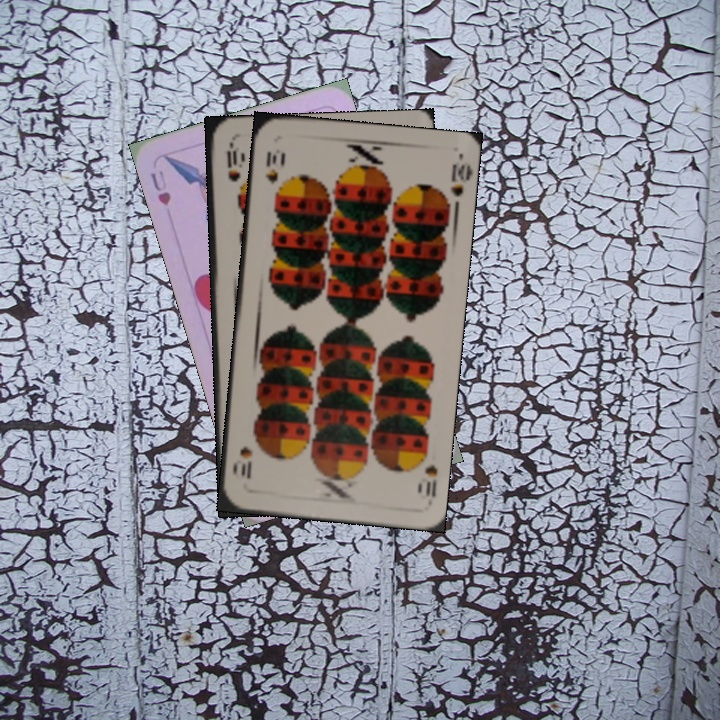HU: (146, 166, 174, 209)
S10: (420, 460, 440, 500), (223, 141, 241, 184), (262, 147, 281, 186)
